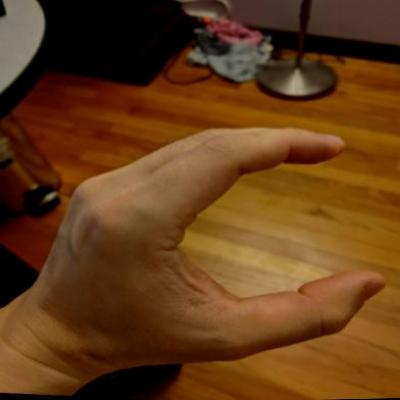hand: (11, 106, 399, 399)
